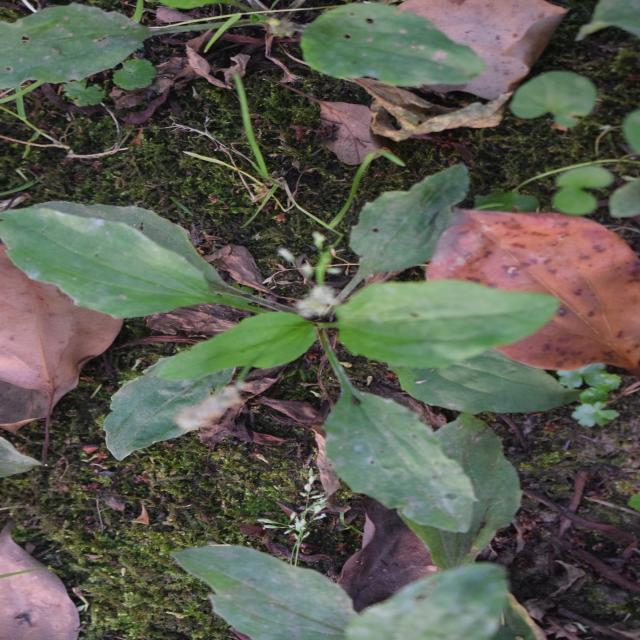plantain: (142, 50, 471, 544)
